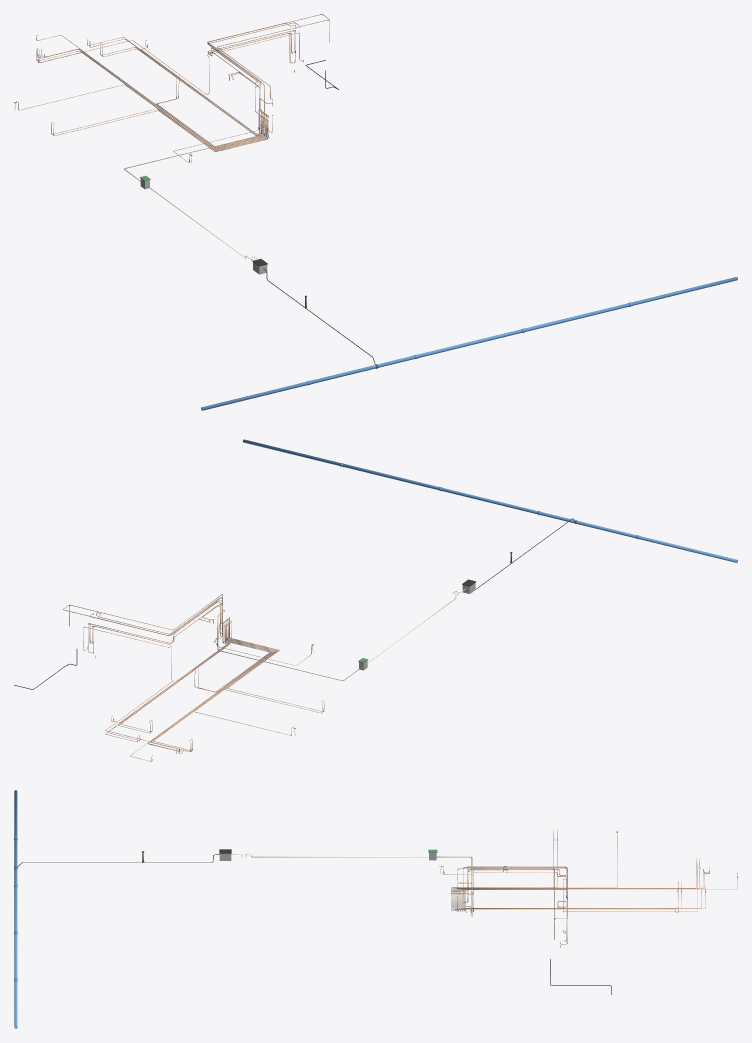
File: slab_pipes_supply.glb
3 views of the same model, one above another, from view 1: azimuth 30°, elevation 25°; view 2: azimuth 150°, elevation 25°; view 3: azimuth 270°, elevation 25° (orthographic). The views are drawn at different scales.
Visible parts, largest first — view 1: city_water_main; view 2: city_water_main; view 3: city_water_main.
Part boxes in pixels (x1,y1,x2,y2): city_water_main: (201,277,737,410); city_water_main: (242,439,737,562); city_water_main: (14,790,17,1028).
Bounding box in the file's own units: 30.48 × 3.93 × 39.55.
